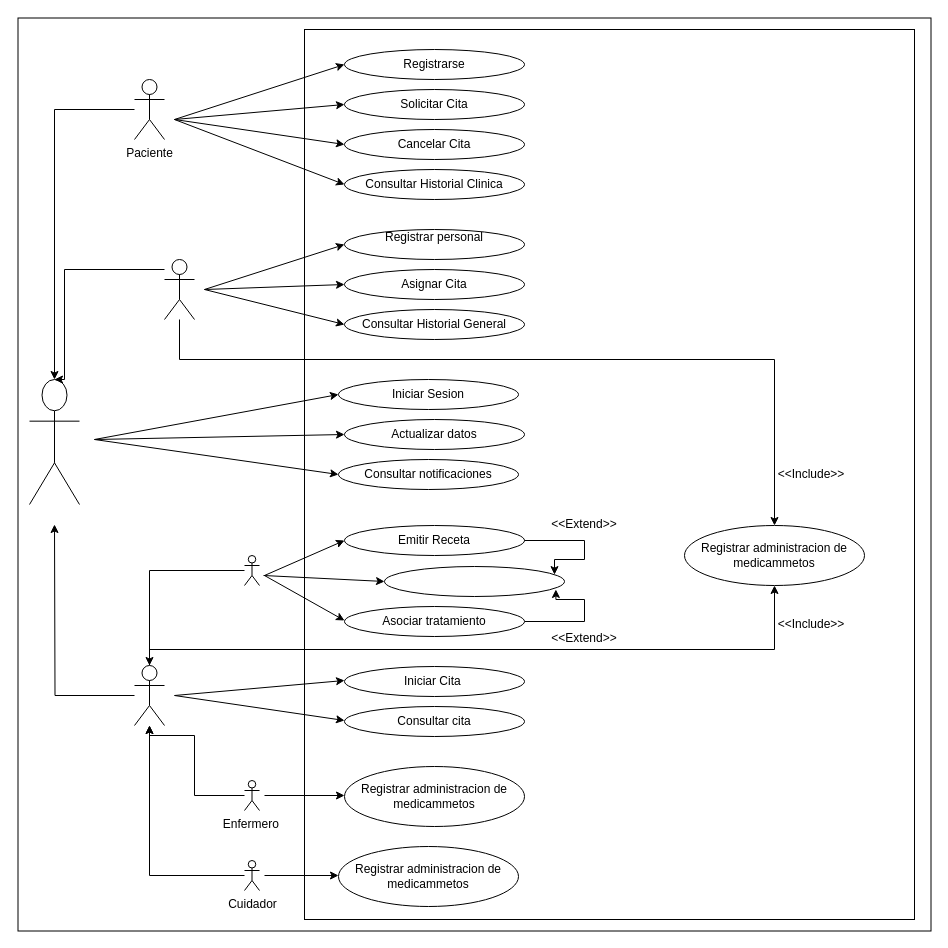
Image size: 948x948. Some labels were removed from this diagram. The shapes that lost their labels are listed below. From the top down, each one's centre as x and y in pixels, then its label:
(179,289): Administrador
(54,441): Usuario
(252,570): Medico
(474,581): Diagnosticar
(149,695): Personal
